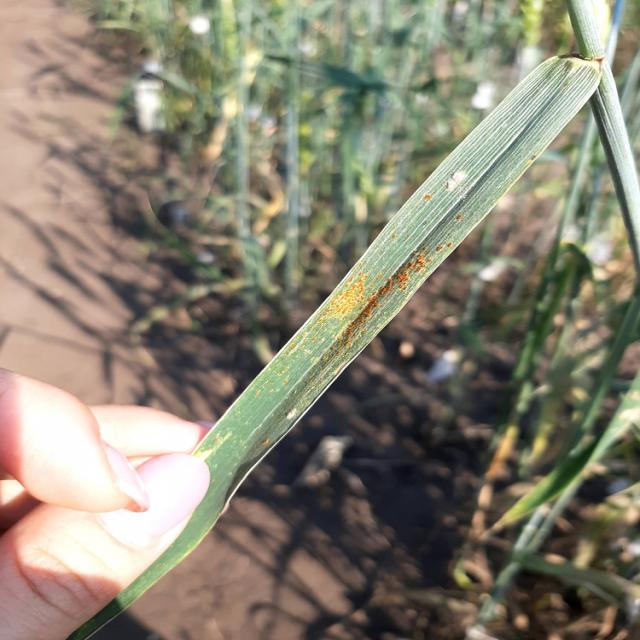wheat-powdery-mildew: (66, 57, 605, 640)
